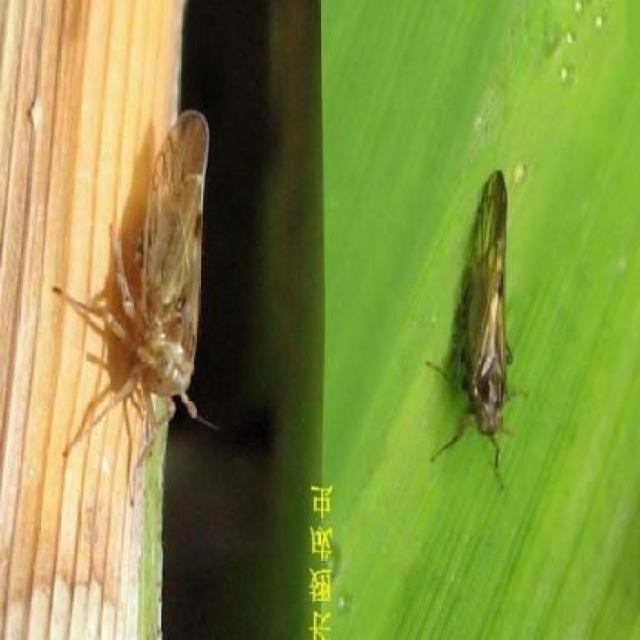brown-planthopper: (133, 107, 210, 425), (459, 167, 518, 444)
